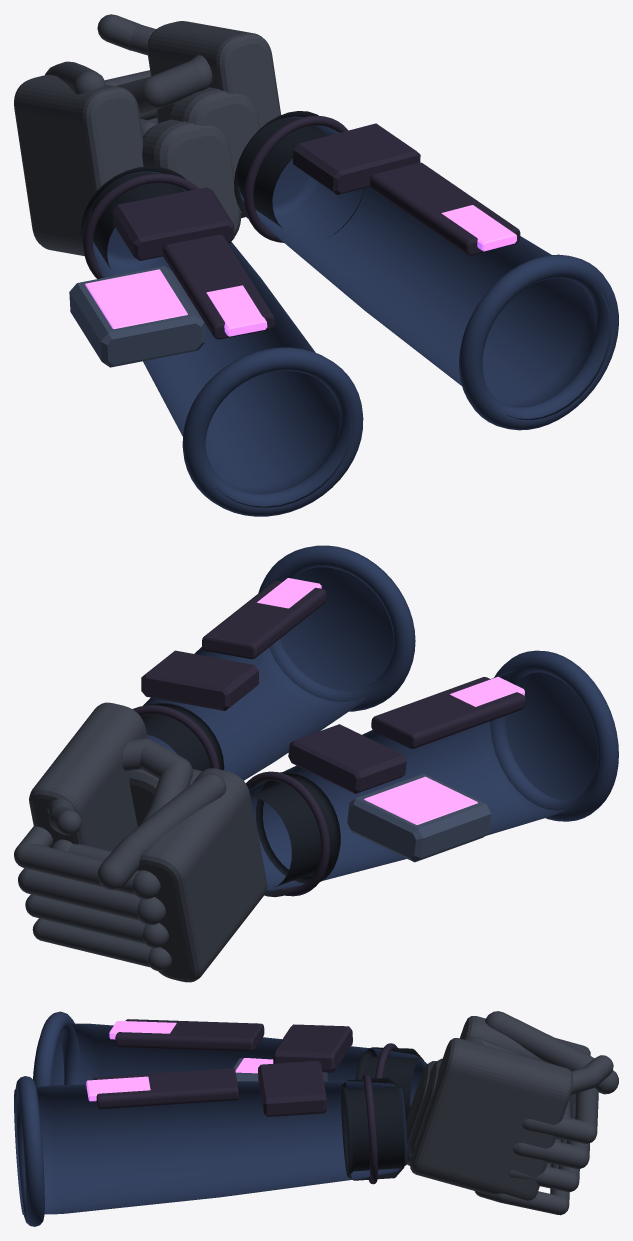
The model's file is hands_specter_pistol.glb.
3 views of the same model, one above another, from view 1: azimuth 30°, elevation 25°; view 2: azimuth 150°, elevation 25°; view 3: azimuth 270°, elevation 25° (orthographic). The views are drawn at different scales.
Visible parts, largest first — view 1: hand_r_forearm, hand_l_forearm, hand_l_palm, hand_l_sleeve_roll, hand_r_sleeve_roll, hand_r_palm, hand_l_scanner, hand_l_cuff_plate, hand_r_cuff_plate, hand_l_heel, hand_r_forearm_plate, hand_l_forearm_plate (+11 smaller); view 2: hand_l_forearm, hand_r_forearm, hand_l_palm, hand_r_palm, hand_r_sleeve_roll, hand_l_sleeve_roll, hand_l_scanner, hand_l_cuff, hand_l_cuff_plate, hand_r_cuff_plate, hand_l_forearm_plate, hand_r_forearm_plate (+16 smaller); view 3: hand_r_forearm, hand_r_palm, hand_l_forearm, hand_r_cuff, hand_r_forearm_plate, hand_l_forearm_plate, hand_r_cuff_plate, hand_r_sleeve_roll, hand_l_thumb, hand_l_cuff_plate, hand_l_sleeve_roll, hand_l_finger3 (+14 smaller).
Part boxes in pixels (x1=…): hand_r_forearm: x1=238, y1=116, x2=611, y2=420; hand_l_forearm: x1=88, y1=171, x2=351, y2=507; hand_l_palm: x1=14, y1=75, x2=143, y2=255; hand_l_sleeve_roll: x1=182, y1=347, x2=363, y2=516; hand_r_sleeve_roll: x1=459, y1=254, x2=618, y2=430; hand_r_palm: x1=147, y1=21, x2=280, y2=128; hand_l_scanner: x1=69, y1=266, x2=205, y2=367; hand_l_cuff_plate: x1=112, y1=187, x2=234, y2=260; hand_r_cuff_plate: x1=293, y1=123, x2=420, y2=194; hand_l_heel: x1=142, y1=119, x2=240, y2=236; hand_r_forearm_plate: x1=370, y1=162, x2=520, y2=255; hand_l_forearm_plate: x1=163, y1=234, x2=274, y2=339; hand_l_forearm: x1=249, y1=668, x2=597, y2=890; hand_r_forearm: x1=143, y1=567, x2=393, y2=780; hand_l_palm: x1=137, y1=768, x2=267, y2=982; hand_r_palm: x1=29, y1=702, x2=147, y2=851; hand_r_sleeve_roll: x1=258, y1=545, x2=415, y2=711; hand_l_sleeve_roll: x1=490, y1=650, x2=618, y2=821; hand_l_scanner: x1=347, y1=773, x2=491, y2=862; hand_l_cuff: x1=246, y1=771, x2=340, y2=897; hand_l_cuff_plate: x1=288, y1=724, x2=406, y2=793; hand_r_cuff_plate: x1=141, y1=650, x2=258, y2=710; hand_l_forearm_plate: x1=371, y1=677, x2=525, y2=748; hand_r_forearm_plate: x1=202, y1=580, x2=326, y2=659; hand_r_forearm: x1=14, y1=1081, x2=407, y2=1214; hand_r_palm: x1=410, y1=1038, x2=572, y2=1200; hand_l_forearm: x1=33, y1=1023, x2=426, y2=1106; hand_r_cuff: x1=341, y1=1077, x2=404, y2=1180; hand_r_forearm_plate: x1=93, y1=1068, x2=238, y2=1109; hand_l_forearm_plate: x1=115, y1=1019, x2=264, y2=1051; hand_r_cuff_plate: x1=258, y1=1061, x2=326, y2=1116; hand_r_sleeve_roll: x1=15, y1=1076, x2=44, y2=1226; hand_l_thumb: x1=485, y1=1011, x2=618, y2=1094; hand_l_cuff_plate: x1=273, y1=1024, x2=352, y2=1072; hand_l_sleeve_roll: x1=33, y1=1011, x2=81, y2=1086; hand_l_finger3: x1=521, y1=1087, x2=598, y2=1143.
Bounding box in the file's own units: 0.2409 × 0.1388 × 0.3834.
